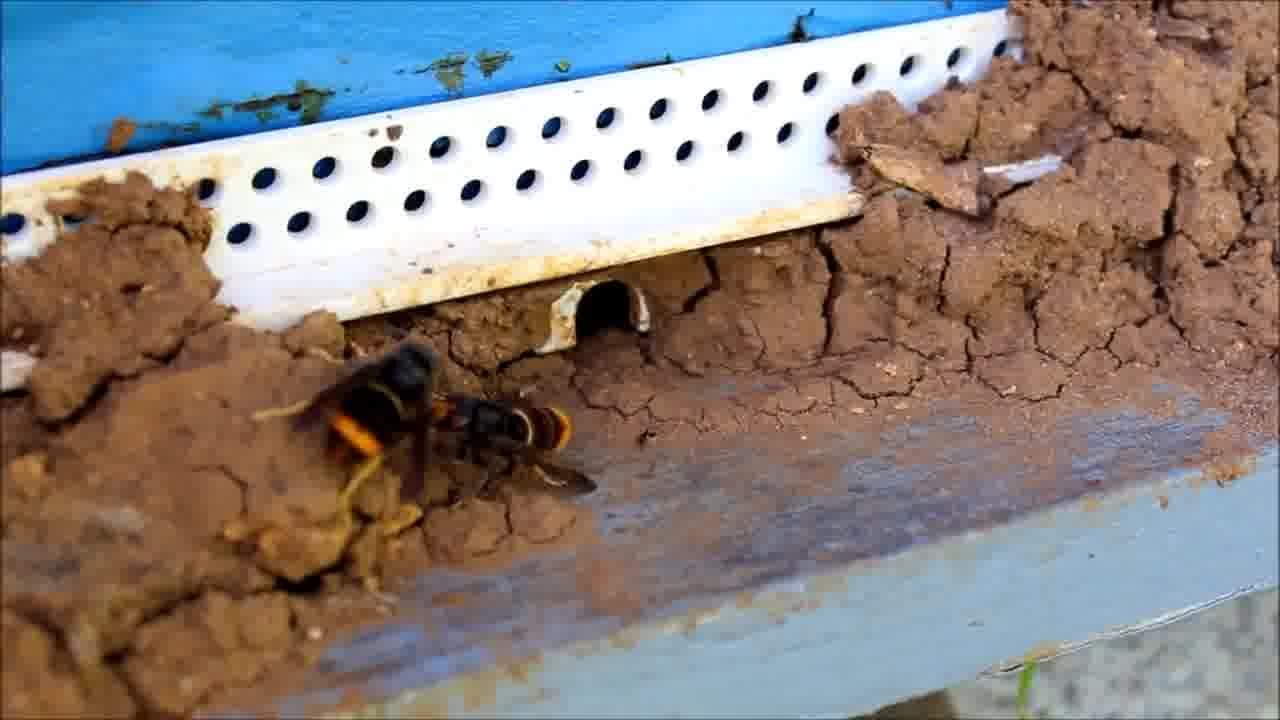hornet: (281, 333, 454, 488), (432, 383, 614, 484)
